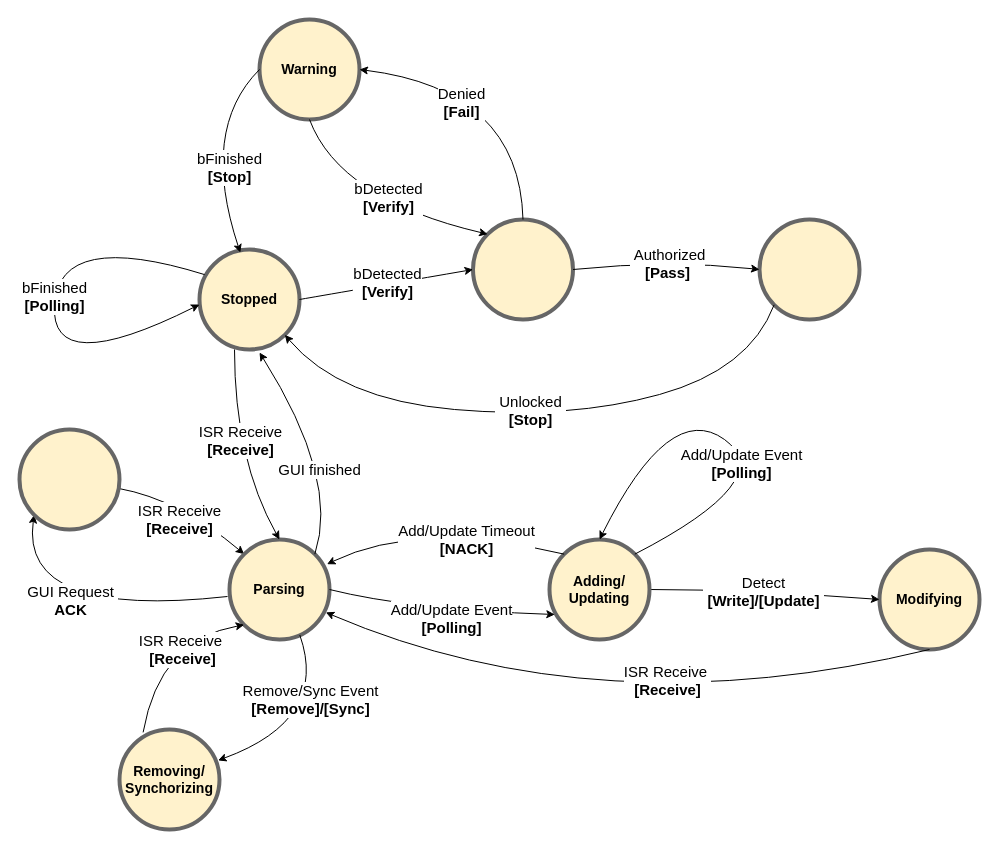
The diagram is 998 pixels wide and 848 high, and some of its shapes have lost their labels. Each missing label, with the centre of its shape:
"Managing" belongs at point 69,479.
"Unlocking" belongs at point 809,269.
"Verifying" belongs at point 522,269.
